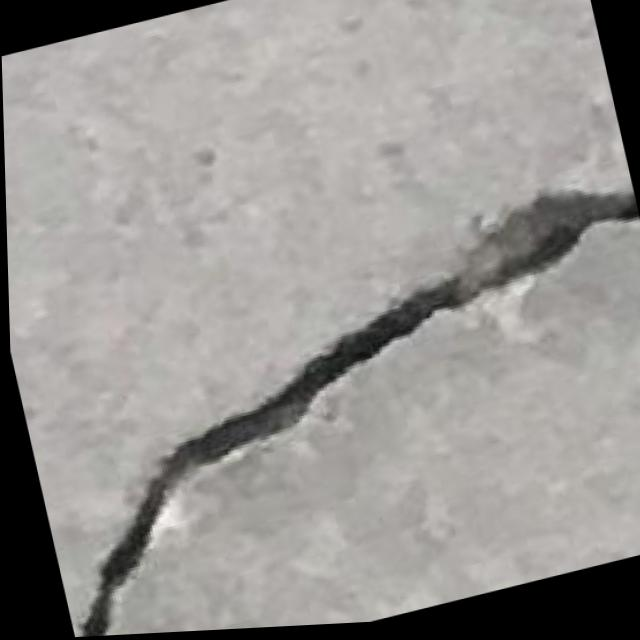Crack: (4, 154, 640, 640)
